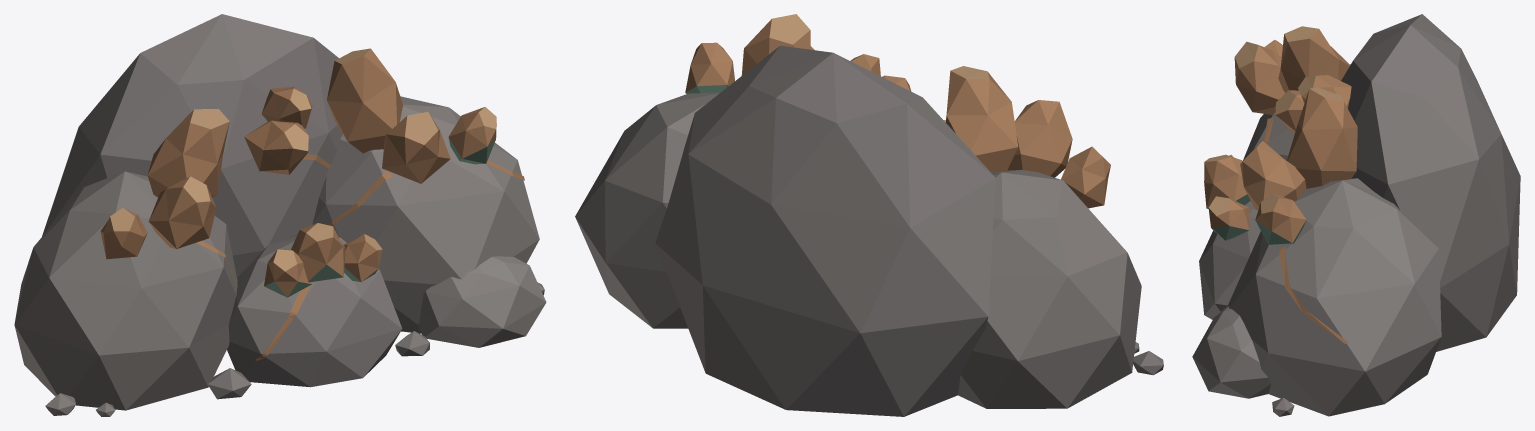
The model's file is ore.glb.
3 views of the same model, side by side, from view 1: azimuth 30°, elevation 25°; view 2: azimuth 150°, elevation 25°; view 3: azimuth 270°, elevation 25° (orthographic). The views are drawn at different scales.
Parts seen in each view (by area): view 1: copper-ore-deposit-body, copper-ore-deposit-copper; view 2: copper-ore-deposit-body, copper-ore-deposit-copper; view 3: copper-ore-deposit-body, copper-ore-deposit-copper.
Boxes of the visible parts, <box> form: copper-ore-deposit-body: <box>14,14,546,416</box>; copper-ore-deposit-copper: <box>100,48,524,360</box>; copper-ore-deposit-body: <box>575,45,1163,416</box>; copper-ore-deposit-copper: <box>593,14,1110,208</box>; copper-ore-deposit-body: <box>1192,14,1520,416</box>; copper-ore-deposit-copper: <box>1204,26,1357,343</box>.
Size of the model in its own units: 1.65 by 0.9 by 0.9716.
